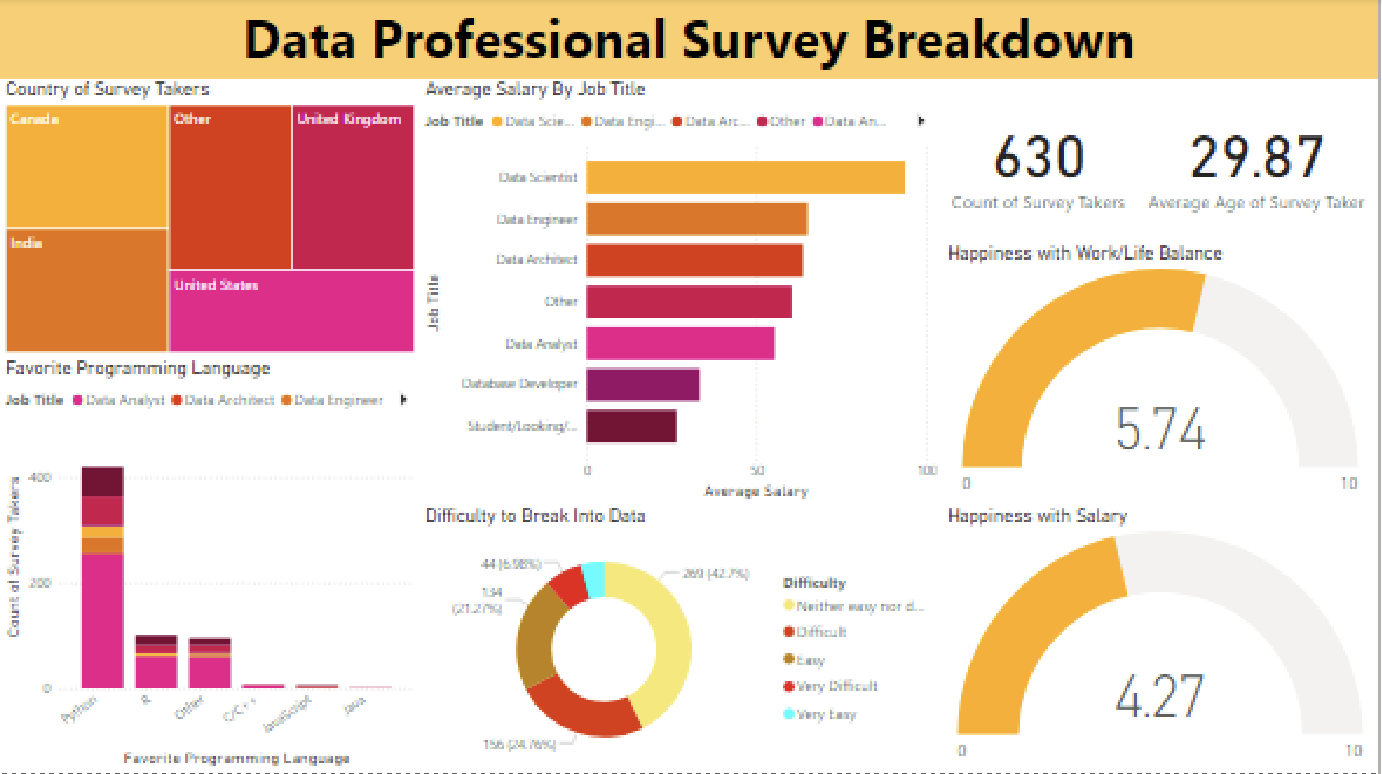

What the dashboard file says about the page in this screenshot:
{"tool":"powerbi","page":{"name":"Page 1","canvas":[1280,720],"ordinal":0},"visuals":[{"type":"textbox","box":[0,0,1280,76.2],"z":0},{"type":"card","fields":{"Values":["Count(Data Professional Survey.Unique ID)"]},"box":[875.1,76.2,178.5,152.4],"z":1},{"type":"card","fields":{"Values":["Avg(Data Professional Survey.Q10 - Current Age)"]},"box":[1053.6,76.2,226.4,152.4],"z":2},{"type":"barChart","title":"Average Salary By Job Title","fields":{"Category":["Data Professional Survey.Q1 - Which Title Best Fits your Current Role?.1"],"Y":["Avg(Data Professional Survey.Average Salary)"],"Series":["Data Professional Survey.Q1 - Which Title Best Fits your Current Role?.1"]},"box":[389.7,76.2,485.4,396.2],"z":3},{"type":"columnChart","title":"Favorite Programming Language","fields":{"Category":["Data Professional Survey.Q5 - Favorite Programming Language.1"],"Y":["CountNonNull(Data Professional Survey.Unique ID)"],"Series":["Data Professional Survey.Q1 - Which Title Best Fits your Current Role?.1"]},"box":[0,335.2,389.7,385.3],"z":4},{"type":"treemap","title":"Country of Survey Takers","fields":{"Group":["Data Professional Survey.Q11 - Which Country do you live in?.1"],"Values":["Count(Data Professional Survey.Q11 - Which Country do you live in?.1)"]},"box":[0,76.2,389.7,259],"z":5},{"type":"gauge","title":"Happiness with Work/Life Balance","fields":{"Y":["Avg(Data Professional Survey.Q6 - How Happy are you in your Current Position with the following? (Work/Life Balance))"],"MinValue":["Min(Data Professional Survey.Q6 - How Happy are you in your Current Position with the following? (Work/Life Balance))"],"MaxValue":["Max(Data Professional Survey.Q6 - How Happy are you in your Current Position with the following? (Work/Life Balance))1"]},"box":[875.1,228.6,404.9,243.8],"z":6},{"type":"gauge","title":"Happiness with Salary","fields":{"Y":["Avg(Data Professional Survey.Q6 - How Happy are you in your Current Position with the following? (Salary))"],"MinValue":["Min(Data Professional Survey.Q6 - How Happy are you in your Current Position with the following? (Salary))"],"MaxValue":["Max(Data Professional Survey.Q6 - How Happy are you in your Current Position with the following? (Salary))"]},"box":[875.1,472.4,404.9,248.2],"z":7},{"type":"donutChart","title":"Difficulty to Break Into Data","fields":{"Category":["Data Professional Survey.Q7 - How difficult was it for you to break into Data?"],"Y":["CountNonNull(Data Professional Survey.Q7 - How difficult was it for you to break into Data?)"]},"box":[389.7,472.4,485.4,248.2],"z":8}]}

Visuals, with their boxes in screenshot pixels (x1, y1, x2, y2), scaled from the page's 1280x720 canvas onto the 1382x774 screenshot:
textbox: [0, 0, 1381, 82]
card - Count(Data Professional Survey.Unique ID): [945, 82, 1138, 246]
card - Avg(Data Professional Survey.Q10 - Current Age): [1138, 82, 1381, 246]
"Average Salary By Job Title" barChart: [421, 82, 945, 508]
"Favorite Programming Language" columnChart: [0, 360, 421, 773]
"Country of Survey Takers" treemap: [0, 82, 421, 360]
"Happiness with Work/Life Balance" gauge: [945, 246, 1381, 508]
"Happiness with Salary" gauge: [945, 508, 1381, 773]
"Difficulty to Break Into Data" donutChart: [421, 508, 945, 773]
